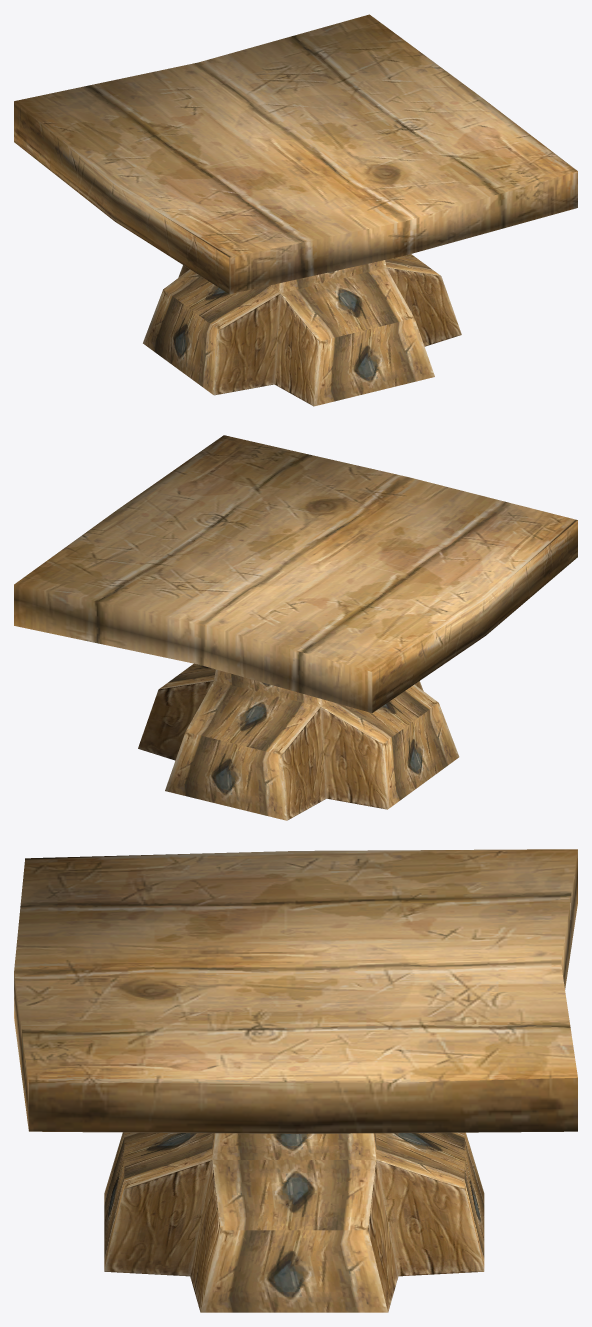
File: inntablesmall.obj
3 renders of one model, top to bottom at view 1: azimuth 30°, elevation 25°; view 2: azimuth 150°, elevation 25°; view 3: azimuth 270°, elevation 25°, orthographic. The views are drawn at different scales.
Visible parts, largest first — view 1: Geoset1, Geoset2, Geoset0; view 2: Geoset1, Geoset2, Geoset0; view 3: Geoset1, Geoset2, Geoset0.
Part boxes in pixels (x1,y1,x2,y2): Geoset1: (14, 14, 577, 294); Geoset2: (143, 254, 440, 406); Geoset0: (178, 265, 461, 406); Geoset1: (14, 435, 577, 712); Geoset2: (159, 663, 459, 820); Geoset0: (138, 681, 423, 820); Geoset1: (14, 849, 577, 1133); Geoset2: (104, 1132, 484, 1312); Geoset0: (104, 1160, 484, 1312).
Bounding box in the file's own units: 2.13 × 1.13 × 2.16.
3 materials, 3 textured.
